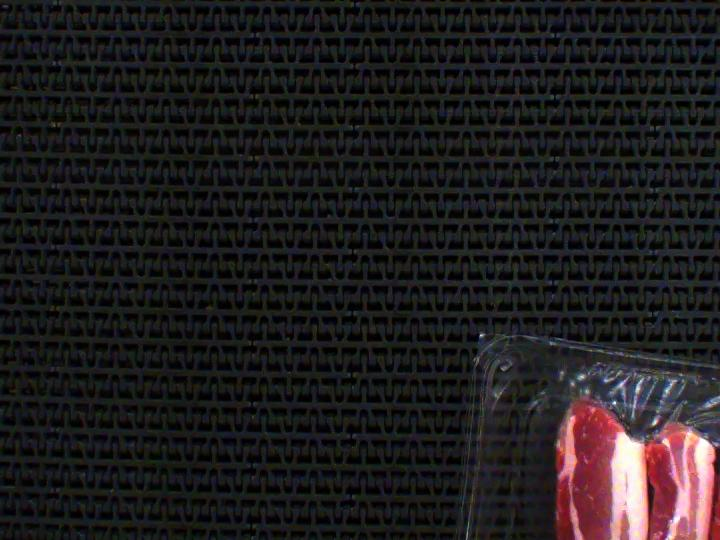unsealed: (497, 338, 720, 540)
